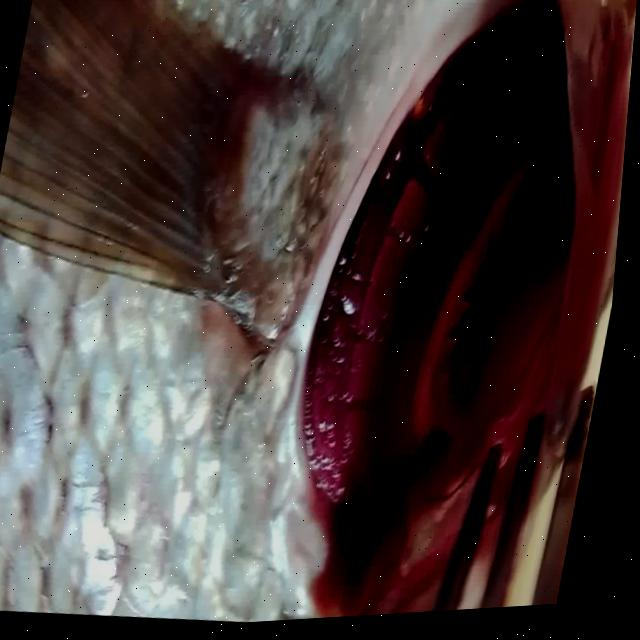Fresh: (263, 0, 613, 626)
